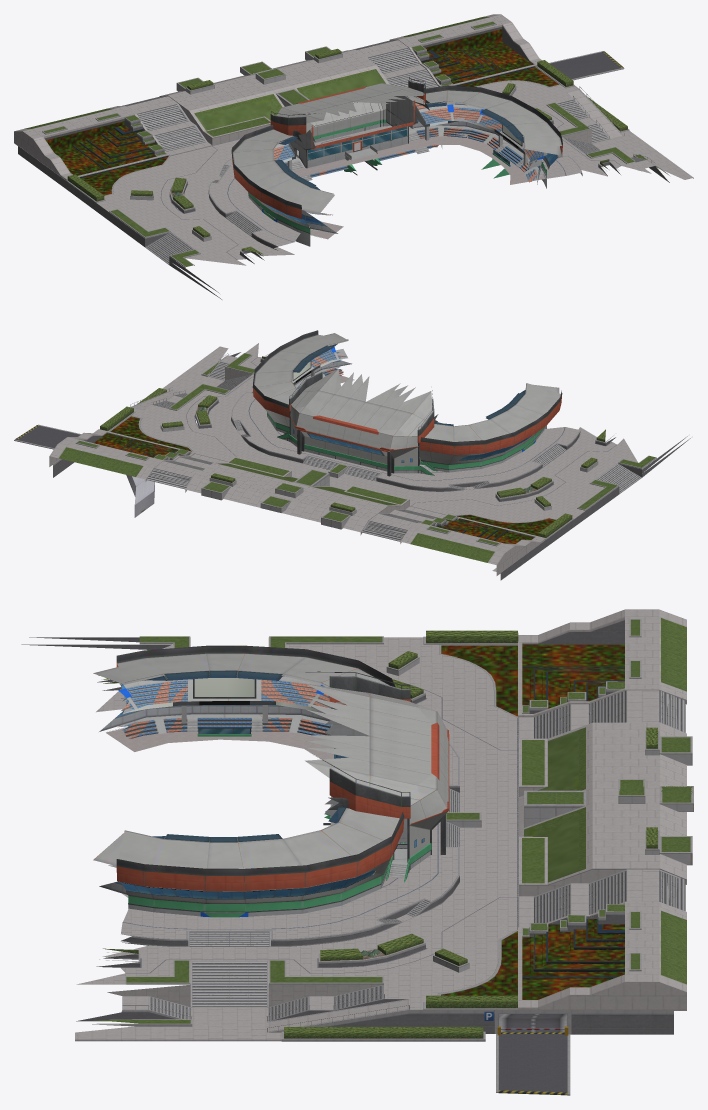
File: stadium.glb
The picture shows the model from 3 angles, top to bottom: view 1: azimuth 30°, elevation 25°; view 2: azimuth 150°, elevation 25°; view 3: azimuth 270°, elevation 25°; orthographic projection. The views are drawn at different scales.
Size of the model in its own units: 199 by 38.9 by 133.
Materials: 1 (1 with a texture image).
